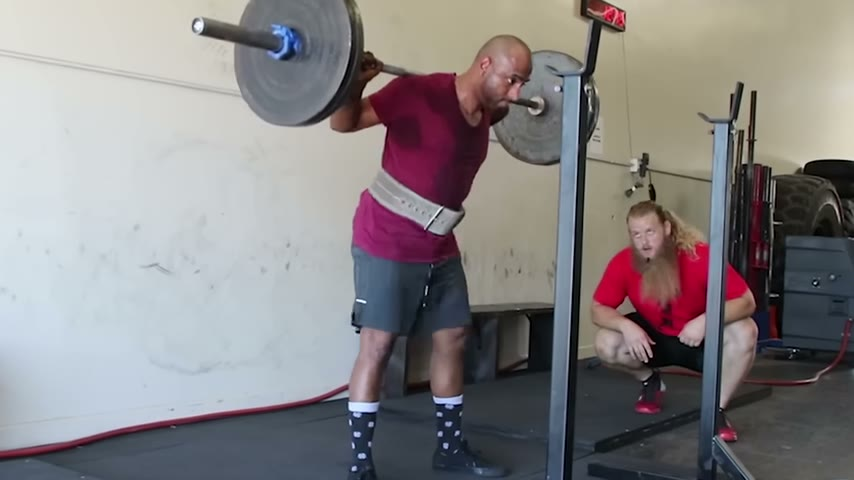barbell_plate_side: (189, 0, 307, 144), (494, 27, 572, 170)
